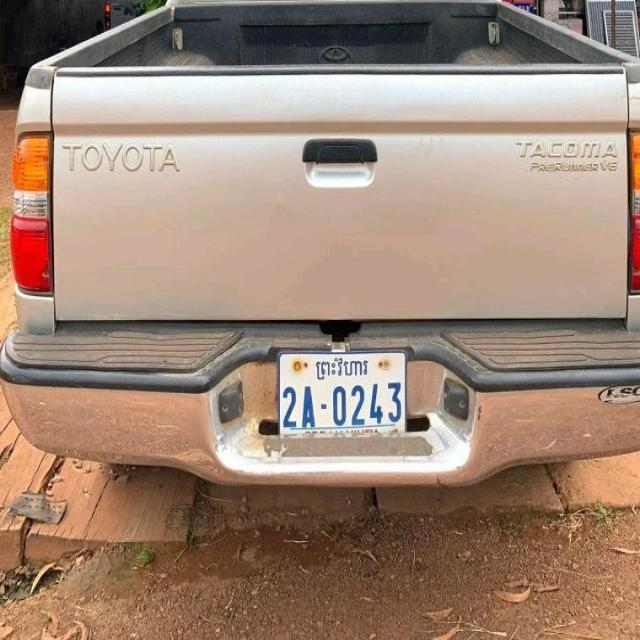Preah_Vihear: (318, 357, 370, 381)
